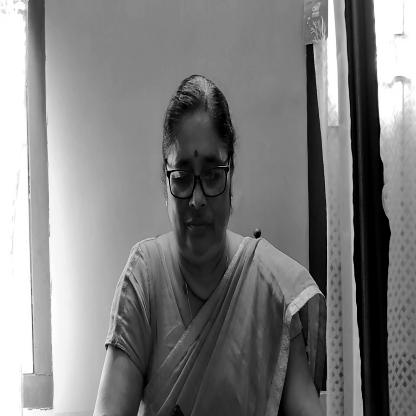Normal: (161, 72, 244, 264)
